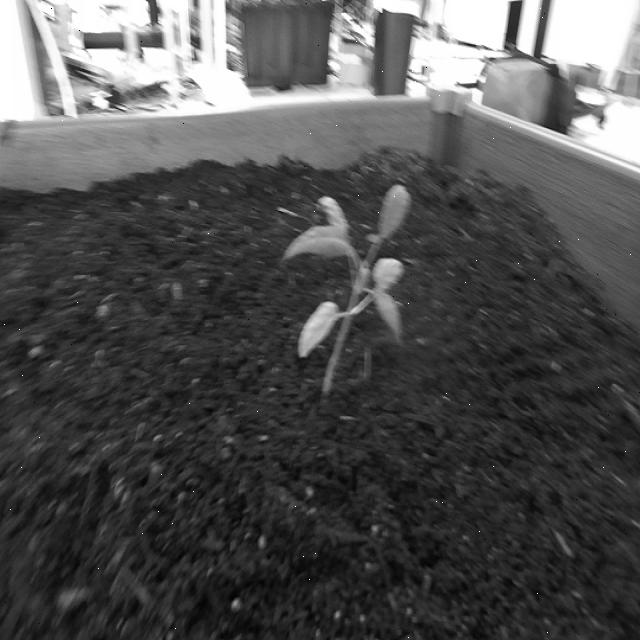Healthy: (281, 174, 418, 403)
